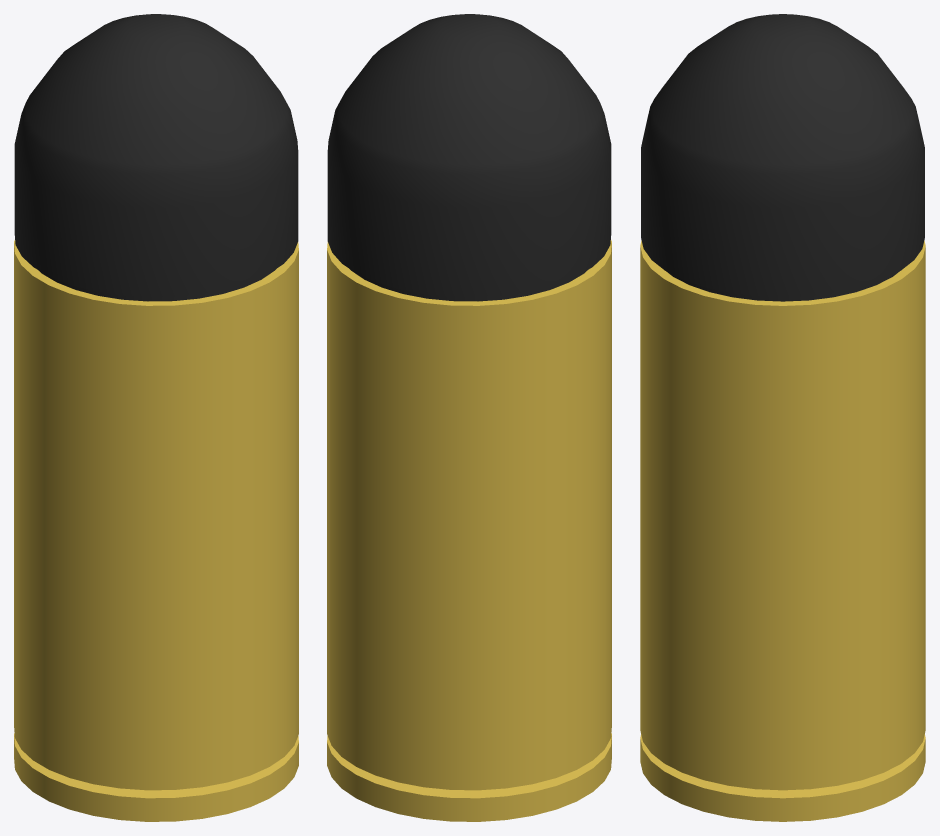
Rendered from PISTOLAMMO.fbx.
3 views of the same model, side by side, from view 1: azimuth 30°, elevation 25°; view 2: azimuth 150°, elevation 25°; view 3: azimuth 270°, elevation 25° (orthographic).
Parts seen in each view (by area): view 1: PISTOL; view 2: PISTOL; view 3: PISTOL.
Boxes of the visible parts, x1=… form: PISTOL: x1=14, y1=14, x2=298, y2=821; PISTOL: x1=327, y1=14, x2=611, y2=821; PISTOL: x1=640, y1=14, x2=925, y2=821.
Size of the model in its own units: 60 by 170 by 60.
